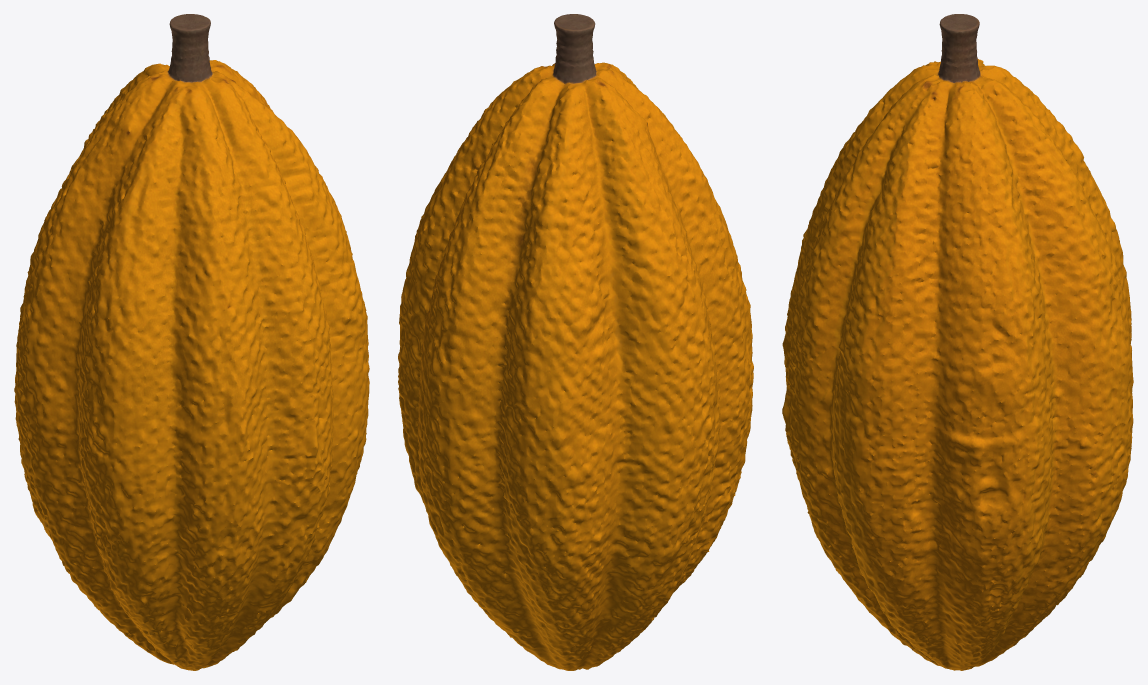
Rendered from cocoa3d.glb.
3 views of the same model, side by side, from view 1: azimuth 30°, elevation 25°; view 2: azimuth 150°, elevation 25°; view 3: azimuth 270°, elevation 25° (orthographic).
Bounding box in the file's own units: 1 × 2 × 0.9938.
1 material, 1 textured.
